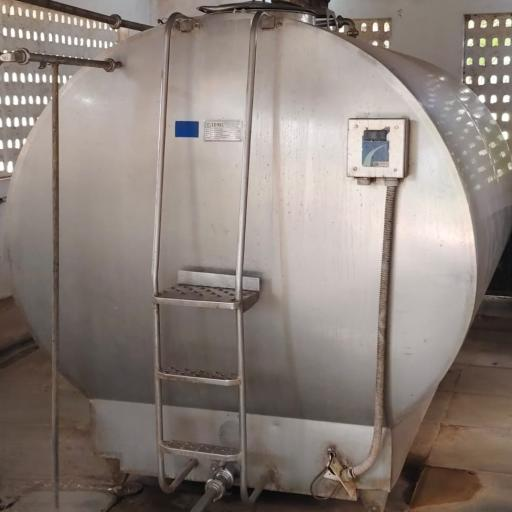silo: (3, 0, 511, 499)
